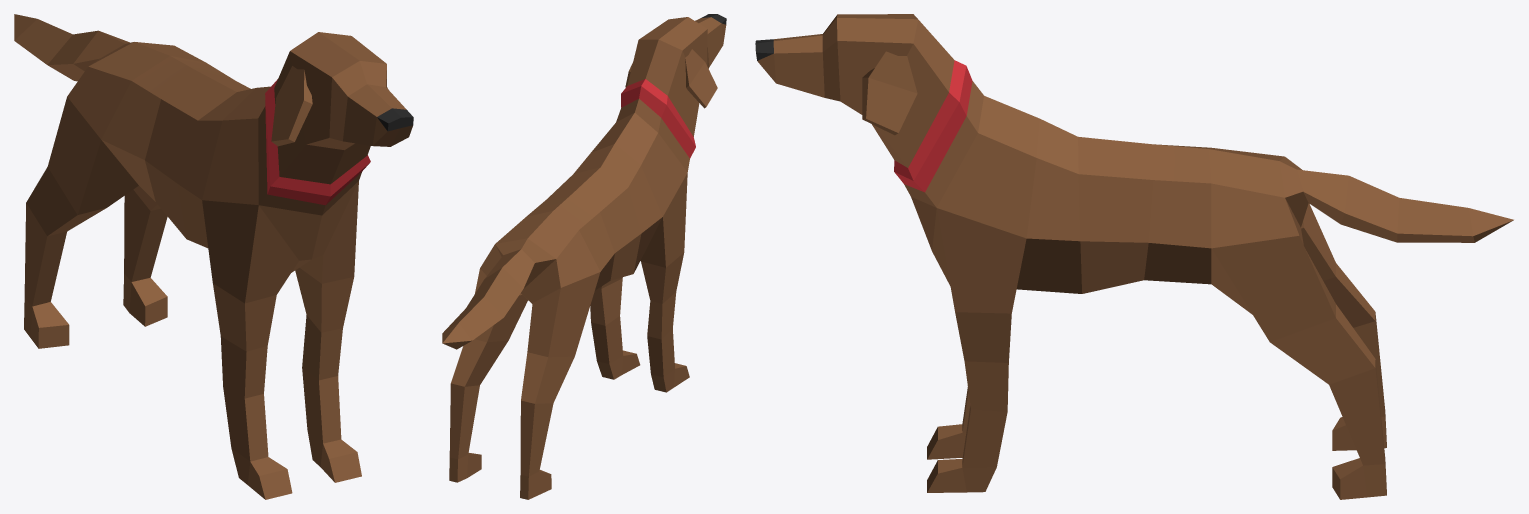
The model's file is animals_dog.fbx.
3 views of the same model, side by side, from view 1: azimuth 30°, elevation 25°; view 2: azimuth 150°, elevation 25°; view 3: azimuth 270°, elevation 25° (orthographic). The views are drawn at different scales.
Parts seen in each view (by area): view 1: animals_dog; view 2: animals_dog; view 3: animals_dog.
Boxes of the visible parts, x1,y1,x2,y2 form: animals_dog: (14,14,413,499); animals_dog: (442,14,726,499); animals_dog: (755,14,1513,499).
Bounding box in the file's own units: 40.35 × 132 × 200.
